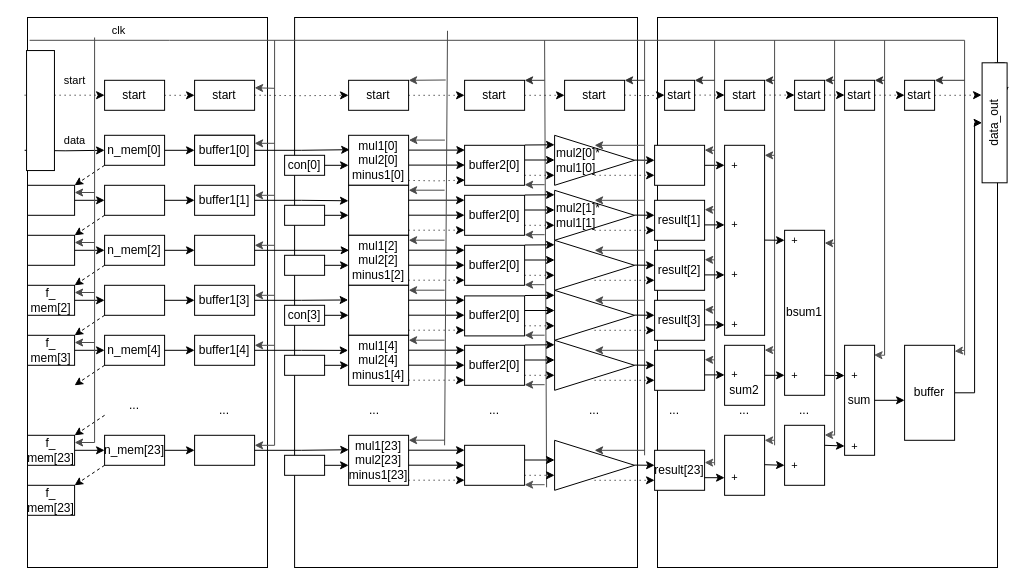
Some shapes in this 1030 by 585 pixel diagram are drawn without their labels. Each missing label, with the box of its shape:
bsum2: (784, 424, 825, 485)
buffer1[23]: (194, 434, 255, 465)
buffer1[2]: (194, 234, 255, 265)
buffer2[23]: (464, 444, 525, 485)
con[1]: (284, 204, 325, 225)
con[23]: (284, 454, 325, 475)
con[2]: (284, 254, 325, 275)
con[4]: (284, 354, 325, 375)
data_in: (26, 50, 54, 171)
f_ mem[0]: (26, 184, 75, 215)
f_ mem[1]: (26, 234, 75, 265)
mul1[1] mul2[1] minus1[1]: (348, 184, 409, 235)
mul1[3] mul2[3] minus1[3]: (348, 284, 409, 335)
mul2[23]* mul1[23]: (554, 439, 635, 490)
mul2[2]* mul1[2]: (554, 239, 635, 290)
mul2[3]* mul1[3]: (554, 289, 635, 340)
mul2[4]* mul1[4]: (554, 339, 635, 390)
n_mem[1]: (104, 184, 165, 215)
n_mem[3]: (104, 284, 165, 315)
result[0]: (654, 144, 705, 185)
result[4]: (654, 349, 705, 390)
sum1: (724, 144, 765, 335)
sum6: (724, 434, 765, 495)
